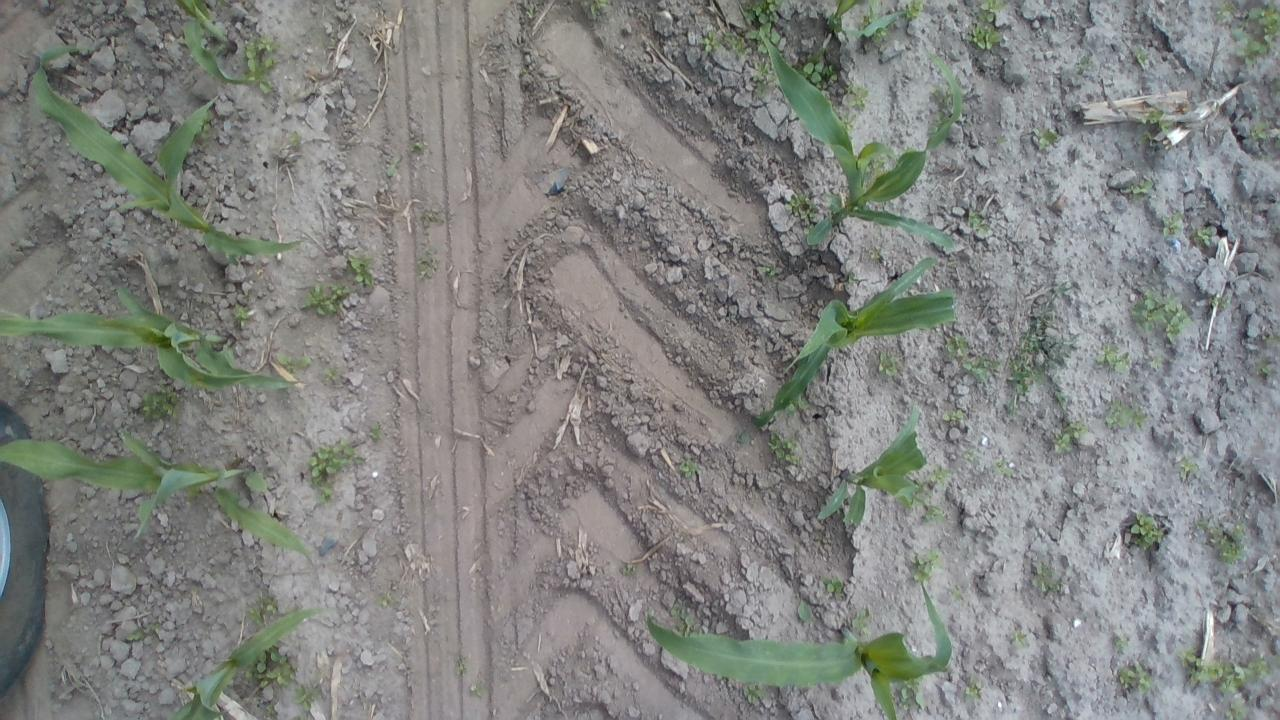Maize: (29, 42, 302, 260), (756, 26, 964, 255), (649, 583, 956, 720), (0, 432, 313, 560), (757, 259, 958, 431), (0, 286, 299, 392), (168, 608, 316, 720), (818, 412, 926, 526), (174, 0, 264, 88), (832, 0, 904, 39)
Weeds: (1008, 282, 1073, 418), (1183, 649, 1272, 697), (308, 440, 364, 504), (1130, 290, 1190, 344), (246, 641, 296, 688), (245, 34, 282, 96), (1198, 516, 1246, 562), (742, 0, 783, 53), (141, 381, 185, 424), (797, 45, 839, 90), (908, 467, 952, 508), (1230, 28, 1276, 66), (304, 283, 352, 317), (784, 191, 818, 234), (1128, 510, 1164, 550), (1248, 0, 1280, 43), (1104, 398, 1146, 430), (912, 546, 944, 586), (669, 604, 706, 638), (1140, 108, 1172, 146), (1120, 662, 1154, 696), (768, 431, 802, 465), (1052, 422, 1088, 454), (966, 22, 1004, 52), (1094, 344, 1132, 374), (896, 670, 924, 710), (961, 356, 1001, 384), (1032, 561, 1064, 595), (346, 253, 376, 288), (248, 595, 280, 627), (751, 59, 777, 98), (275, 352, 314, 374), (943, 331, 973, 358), (290, 684, 318, 712), (968, 209, 992, 238), (919, 502, 947, 526), (978, 0, 1008, 22), (846, 83, 870, 110), (722, 30, 746, 57), (850, 606, 871, 636), (859, 0, 880, 30), (877, 350, 899, 378), (1224, 697, 1250, 720), (196, 109, 214, 140), (679, 457, 704, 479), (184, 483, 210, 504), (256, 697, 279, 720), (1034, 127, 1058, 149), (1160, 212, 1182, 236), (583, 0, 609, 20), (1177, 457, 1197, 482), (1133, 178, 1155, 200), (232, 302, 256, 322), (821, 575, 846, 594), (700, 28, 720, 51), (1214, 0, 1233, 24), (872, 21, 896, 40), (788, 397, 810, 417), (758, 260, 780, 280), (866, 155, 886, 177), (905, 0, 925, 22), (323, 366, 346, 385), (1009, 627, 1028, 649), (942, 407, 968, 423), (966, 678, 986, 698), (1250, 121, 1269, 142), (994, 459, 1016, 477), (416, 256, 433, 279), (744, 684, 764, 702), (756, 406, 776, 424), (384, 156, 400, 178), (1194, 227, 1213, 245), (930, 88, 951, 104), (368, 420, 385, 439), (840, 112, 856, 132), (620, 564, 642, 578), (798, 598, 812, 620), (933, 112, 948, 132), (378, 592, 396, 608), (828, 15, 844, 33), (962, 448, 979, 463), (524, 5, 540, 20), (408, 141, 424, 155), (1136, 48, 1150, 64), (948, 584, 962, 600), (126, 630, 146, 641), (288, 132, 303, 146), (1076, 56, 1090, 71), (1256, 361, 1272, 374), (470, 686, 486, 698), (1210, 298, 1226, 310), (1263, 334, 1280, 345), (738, 433, 752, 446), (1114, 638, 1128, 651), (456, 662, 466, 676), (848, 270, 858, 284), (150, 622, 162, 632), (1150, 360, 1160, 368), (293, 714, 305, 720)
